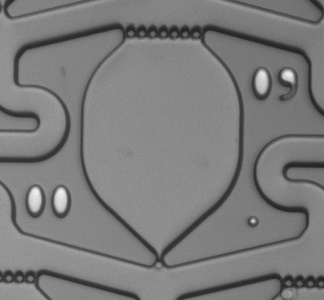AptNum: (246, 61, 306, 109)
Marker: (243, 212, 265, 233)
StNum: (17, 175, 81, 226)
Trap: (131, 257, 188, 300)
